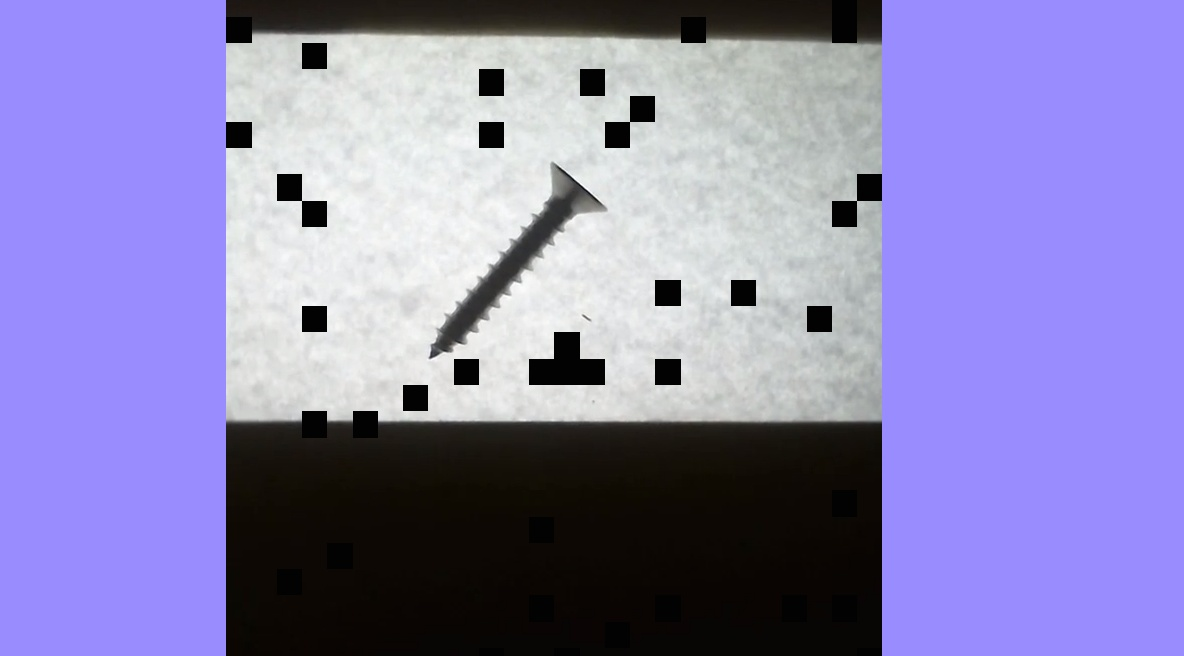S001: (411, 133, 619, 373)
